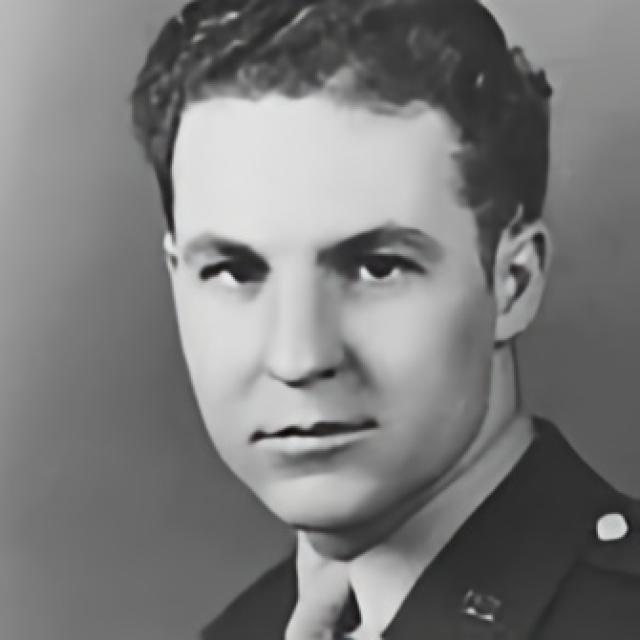neutral: (172, 100, 489, 526)
